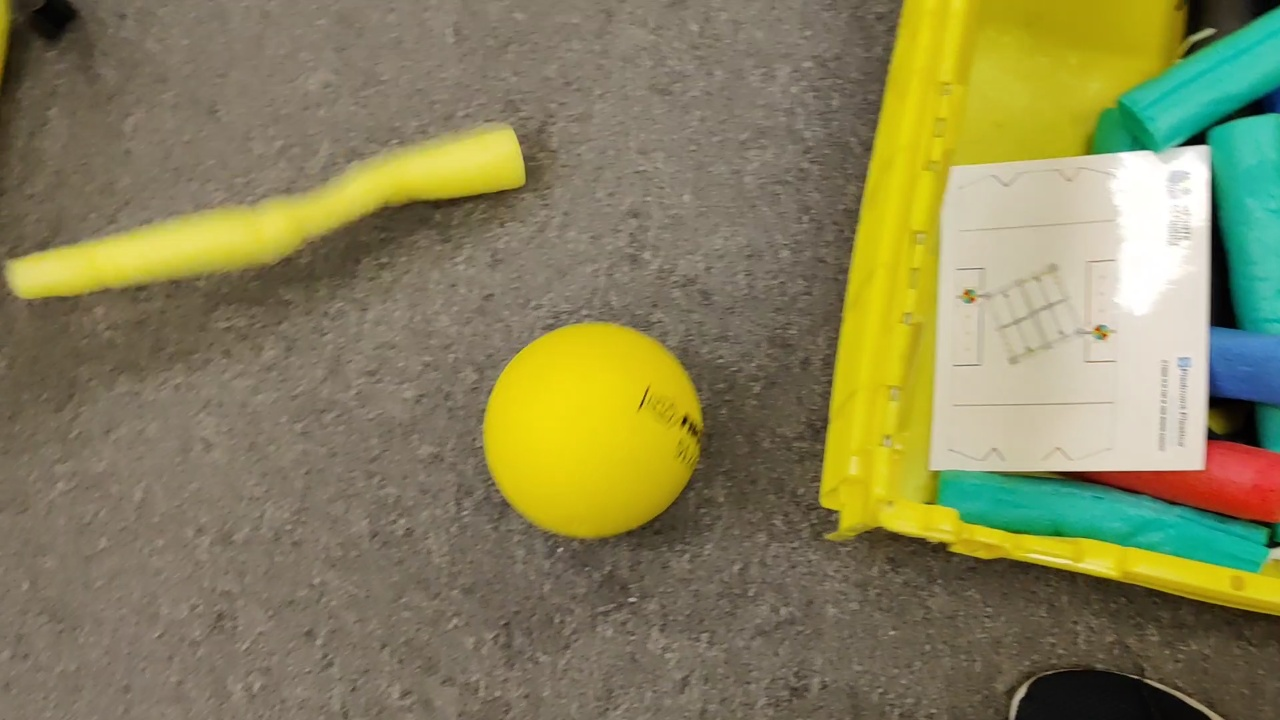Ball: (479, 323, 709, 536)
